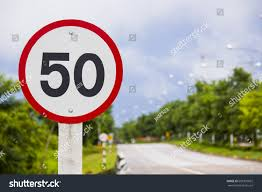Speed_limit_50km: (20, 19, 123, 122)
